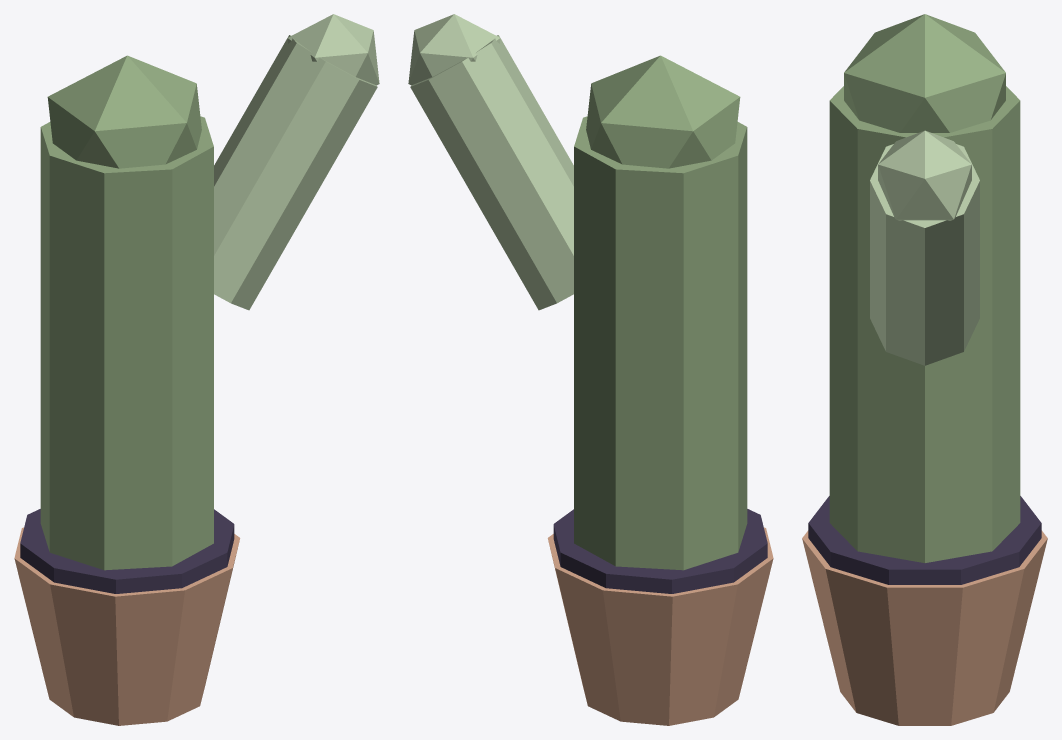
The model's file is deco_cactus_01.glb.
3 renders of one model, left to right at view 1: azimuth 30°, elevation 25°; view 2: azimuth 150°, elevation 25°; view 3: azimuth 270°, elevation 25°, orthographic. The views are drawn at different scales.
Visible parts, largest first — view 1: deco_cactus_01; view 2: deco_cactus_01; view 3: deco_cactus_01.
Part boxes in pixels (box(x1,y1,x2,y2)): deco_cactus_01: box(14, 14, 379, 725); deco_cactus_01: box(408, 14, 773, 725); deco_cactus_01: box(802, 14, 1047, 725).
Bounding box in the file's own units: 0.198 × 0.353 × 0.116.
